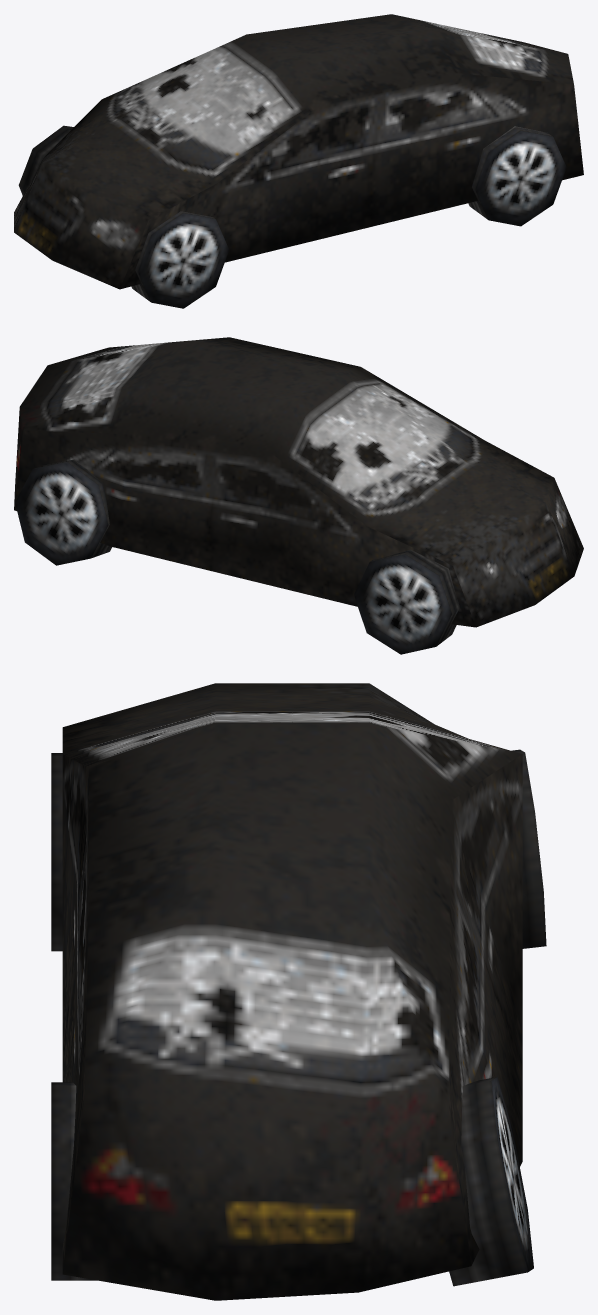
The model's file is car5_1.fbx.
3 views of the same model, one above another, from view 1: azimuth 30°, elevation 25°; view 2: azimuth 150°, elevation 25°; view 3: azimuth 270°, elevation 25° (orthographic). The views are drawn at different scales.
Parts seen in each view (by area): view 1: car5_1; view 2: car5_1; view 3: car5_1.
Part boxes in pixels (x1,y1,x2,y2): car5_1: (14,14,583,308); car5_1: (14,337,583,654); car5_1: (51,683,546,1300).
Bounding box in the file's own units: 456 × 188 × 154.
1 material, 1 textured.
